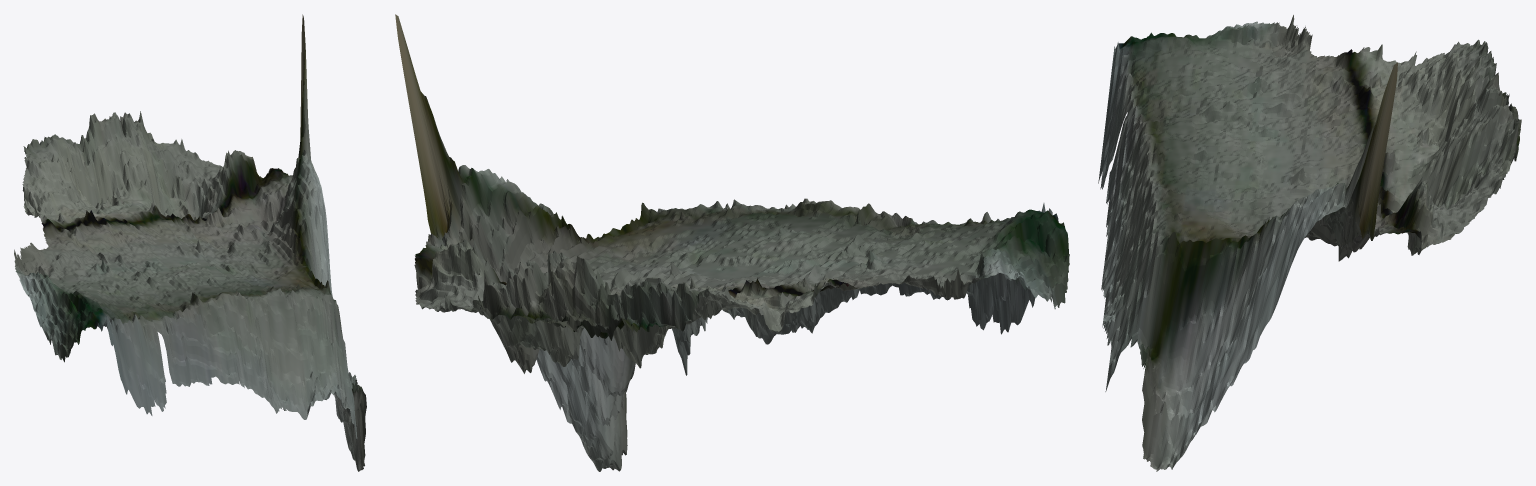
Rendered from bag_mesh.glb.
3 renders of one model, left to right at view 1: azimuth 30°, elevation 25°; view 2: azimuth 150°, elevation 25°; view 3: azimuth 270°, elevation 25°, orthographic. The views are drawn at different scales.
Visible parts, largest first — view 1: world; view 2: world; view 3: world.
Boxes of the visible parts, left/top/right/bottom form: world: left=14, top=14, right=366, bottom=471; world: left=395, top=14, right=1069, bottom=471; world: left=1098, top=15, right=1521, bottom=471.
Bounding box in the file's own units: 1.26 × 1.29 × 1.14.
